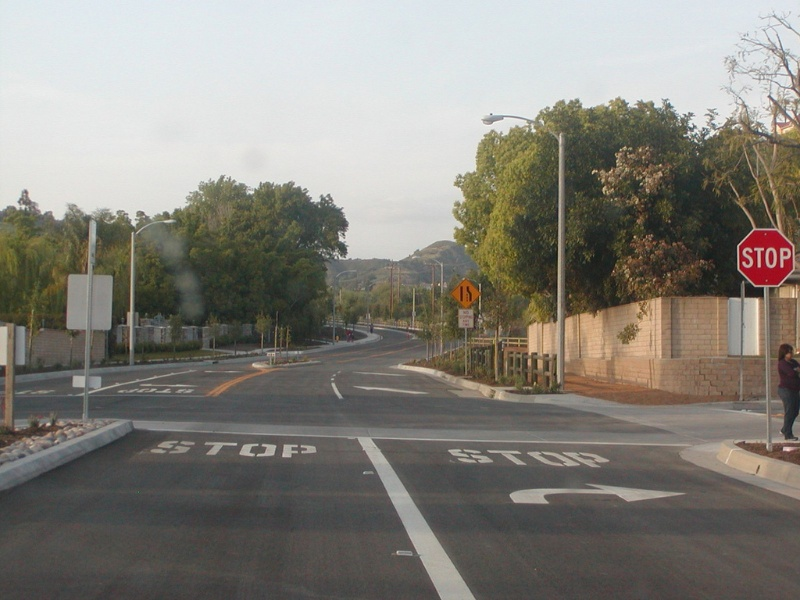stop sign: (735, 225, 797, 291)
